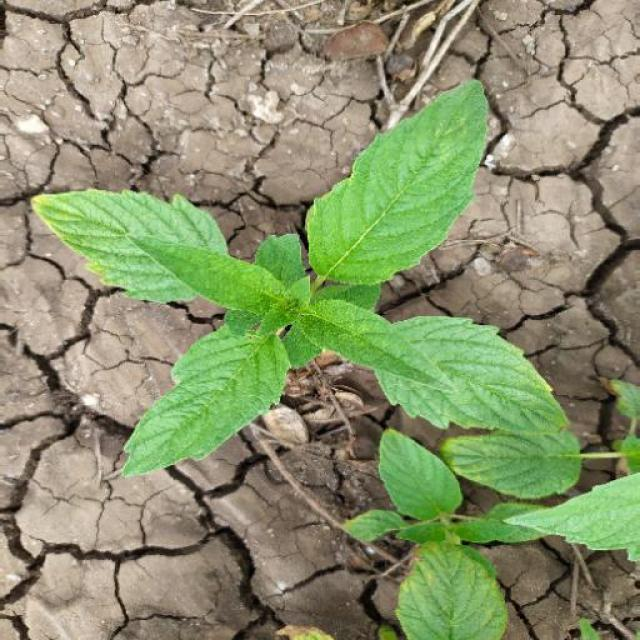crop: (25, 76, 570, 476), (340, 432, 572, 640)
